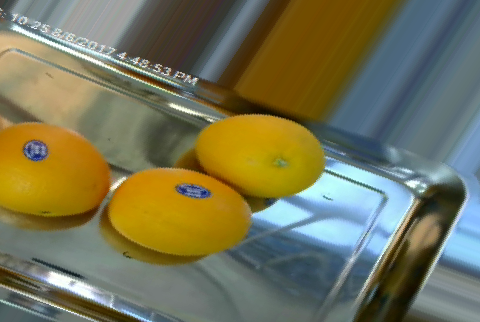Orange: (108, 166, 252, 256), (195, 115, 327, 198), (0, 121, 111, 217)
